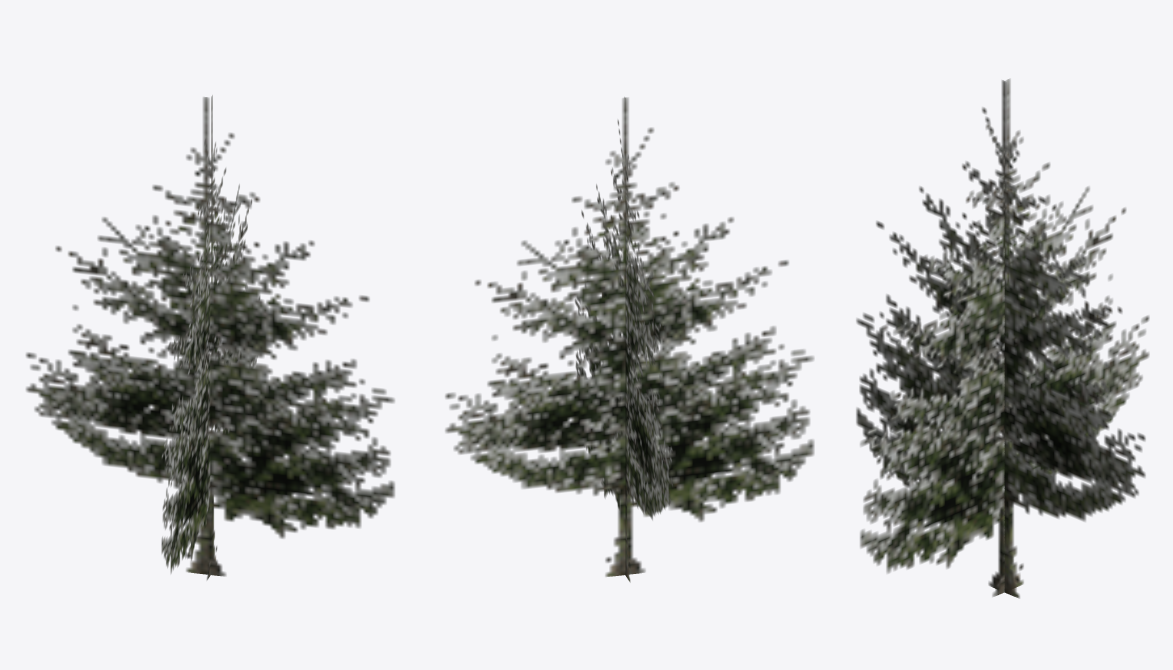
Rendered from tree065.glb.
3 renders of one model, left to right at view 1: azimuth 30°, elevation 25°; view 2: azimuth 150°, elevation 25°; view 3: azimuth 270°, elevation 25°, orthographic. The views are drawn at different scales.
Visible parts, largest first — view 1: tree065; view 2: tree065; view 3: tree065.
Part boxes in pixels (box(x1,y1,x2,y2)): tree065: box(26, 95, 394, 580); tree065: box(445, 97, 814, 582); tree065: box(856, 79, 1149, 598).
Size of the model in its own units: 2.68 by 5.01 by 2.68.
Materials: 1 (1 with a texture image).
